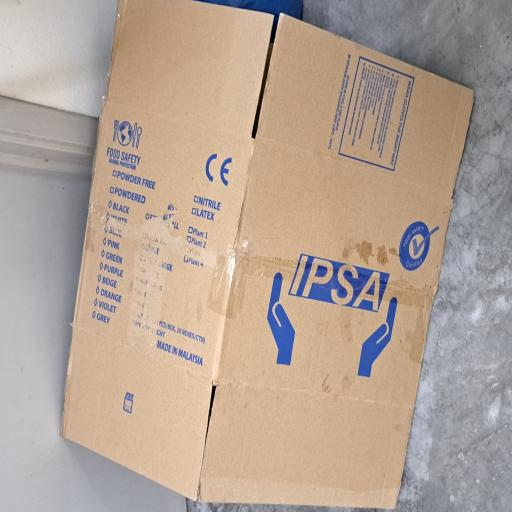cardboard: (0, 78, 384, 512)
